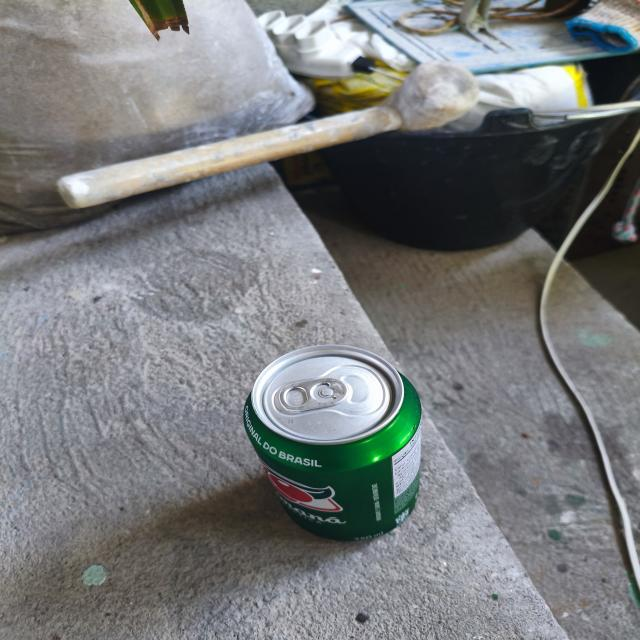Guarana: (205, 331, 481, 582)
